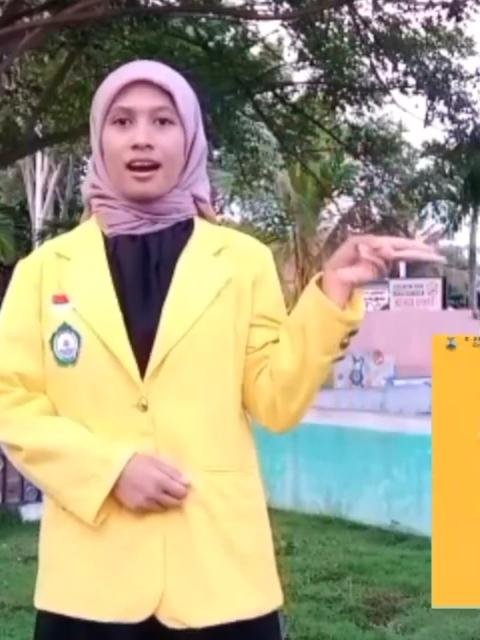H: (323, 231, 449, 293)
